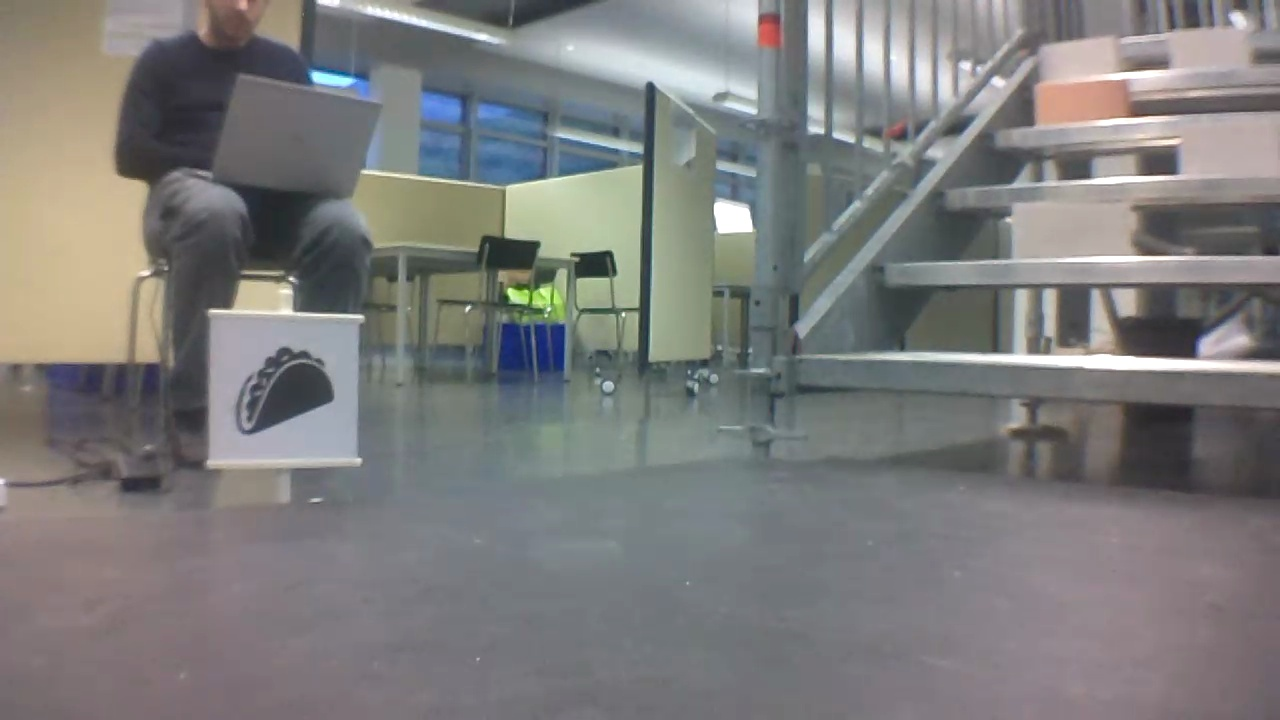brick: (1014, 201, 1128, 256), (1180, 122, 1280, 177), (1034, 79, 1129, 122), (1041, 37, 1124, 75), (1172, 28, 1250, 64)
edge: (793, 357, 1279, 406), (880, 257, 1279, 283), (939, 178, 1277, 207), (992, 114, 1280, 139)
stairs: (746, 2, 1280, 480)
taco: (228, 343, 340, 439)
